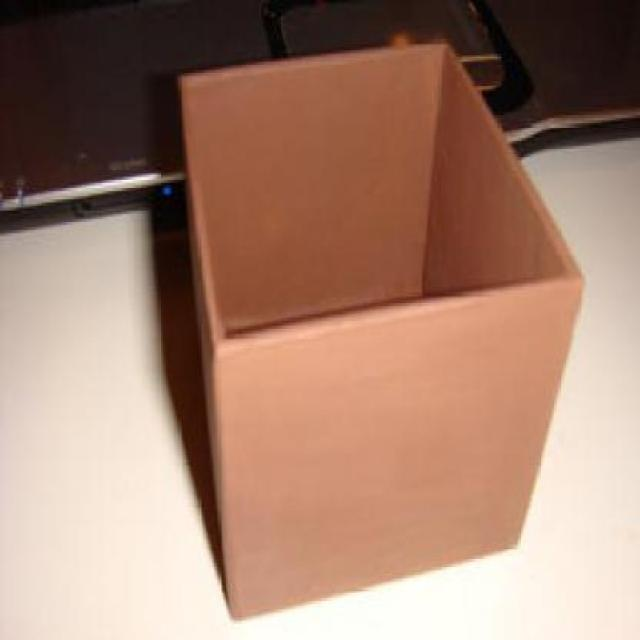box: (154, 31, 604, 633)
